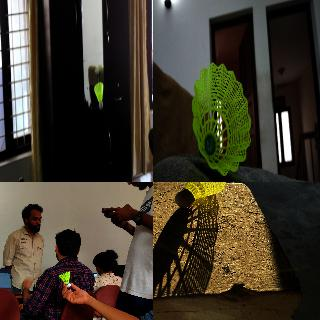shuttlecock: (192, 62, 251, 175), (175, 182, 226, 207), (94, 82, 103, 110), (58, 271, 70, 287)
